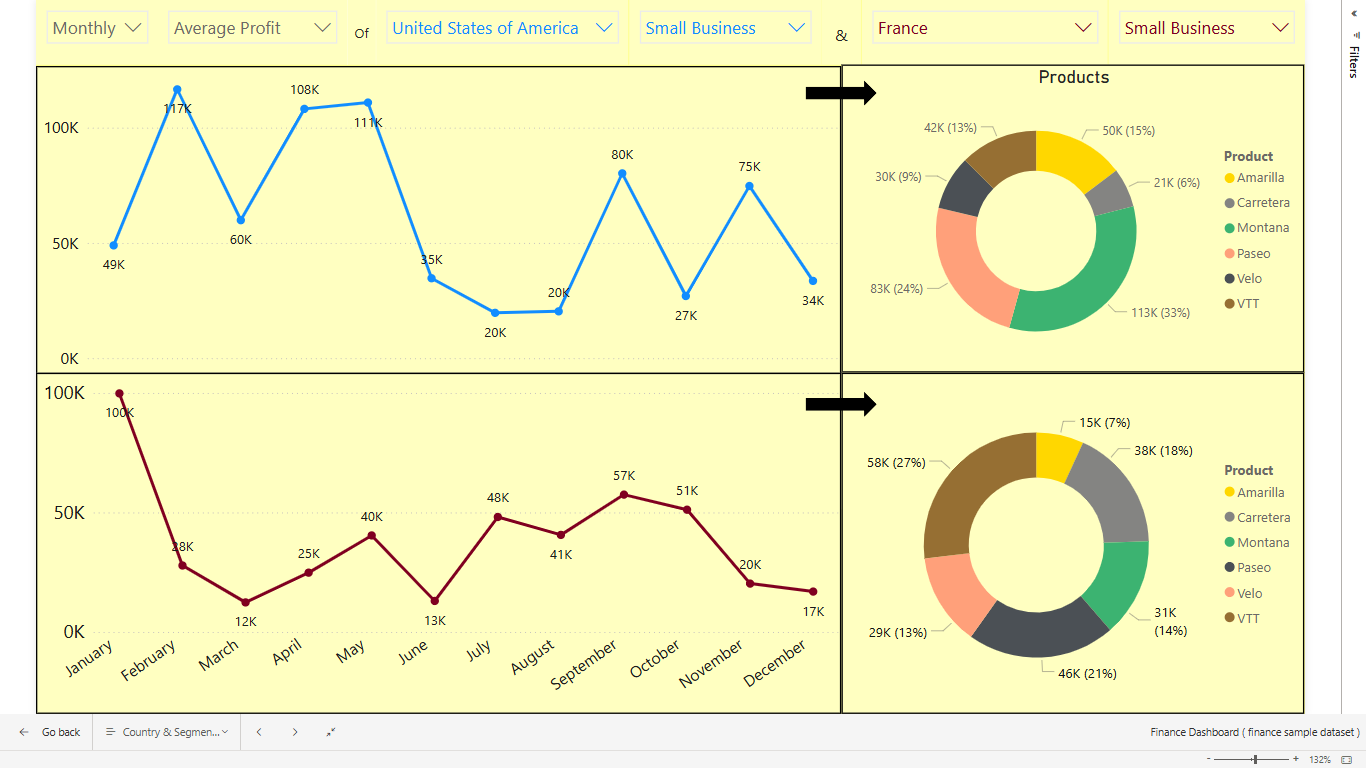

Layout of this report page (visuals, bound fields, positions):
{"tool":"powerbi","page":{"name":"Country & Segment Comparison","canvas":[1280,720],"ordinal":1},"visuals":[{"type":"lineChart","title":"Blue","fields":{"Y":["financials.Average Profit"],"Category":["financials.Date.Variation.Date Hierarchy.Month"]},"box":[0,66.2,812.5,310],"z":0},{"type":"slicer","title":"Segment","fields":{"Values":["financials.Segment"]},"box":[598.3,0,193.7,65.5],"z":1000},{"type":"slicer","title":"Country","fields":{"Values":["financials.Country"]},"box":[343,0,255.3,65.5],"z":2000},{"type":"lineChart","title":"Red","fields":{"Y":["financials.Average Profit"],"Category":["financials.Date.Variation.Date Hierarchy.Month"]},"box":[0,376.2,812.5,343.8],"z":3000},{"type":"slicer","title":"Segment","fields":{"Values":["financials.Segment"]},"box":[1081.4,0,198.6,65.7],"z":4000},{"type":"slicer","title":"Country","fields":{"Values":["financials.Country"]},"box":[832.9,0,248.6,65.7],"z":5000},{"type":"slicer","title":"Measure","fields":{"Values":["Select A Measure.Select A Measure"]},"box":[122.9,0,191.4,65.7],"z":6000},{"type":"slicer","fields":{"Values":["Select A Year.Select A Year"]},"box":[0,0,122.9,65.7],"z":7000},{"type":"textbox","box":[314.2,0,28.8,65.5],"z":8000},{"type":"textbox","box":[792,0,40.6,65.5],"z":9000},{"type":"donutChart","title":"Products","fields":{"Y":["financials.Average Profit"],"Category":["financials.Product"]},"box":[812.5,65,466.2,311.2],"z":10000},{"type":"donutChart","fields":{"Y":["financials.Average Profit"],"Category":["financials.Product"]},"box":[812.2,375.8,466.6,344.2],"z":11000},{"type":"shape","box":[776.2,80.6,72,25.9],"z":12000},{"type":"shape","box":[776.2,394.6,72,25.9],"z":13000}]}

Visuals, with their boxes on the page's 1280x720 design canvas (x1, y1, x2, y2). These are canvas units, not pixel positions in the 1366x768 screenshot, which may show the page scaled, cropped or inside an application window:
"Blue" lineChart: x1=0 y1=66 x2=812 y2=376
"Segment" slicer: x1=598 y1=0 x2=792 y2=66
"Country" slicer: x1=343 y1=0 x2=598 y2=66
"Red" lineChart: x1=0 y1=376 x2=812 y2=720
"Segment" slicer: x1=1081 y1=0 x2=1280 y2=66
"Country" slicer: x1=833 y1=0 x2=1082 y2=66
"Measure" slicer: x1=123 y1=0 x2=314 y2=66
slicer - Select A Year.Select A Year: x1=0 y1=0 x2=123 y2=66
textbox: x1=314 y1=0 x2=343 y2=66
textbox: x1=792 y1=0 x2=833 y2=66
"Products" donutChart: x1=812 y1=65 x2=1279 y2=376
donutChart - financials.Average Profit x financials.Product: x1=812 y1=376 x2=1279 y2=720
shape: x1=776 y1=81 x2=848 y2=106
shape: x1=776 y1=395 x2=848 y2=420
